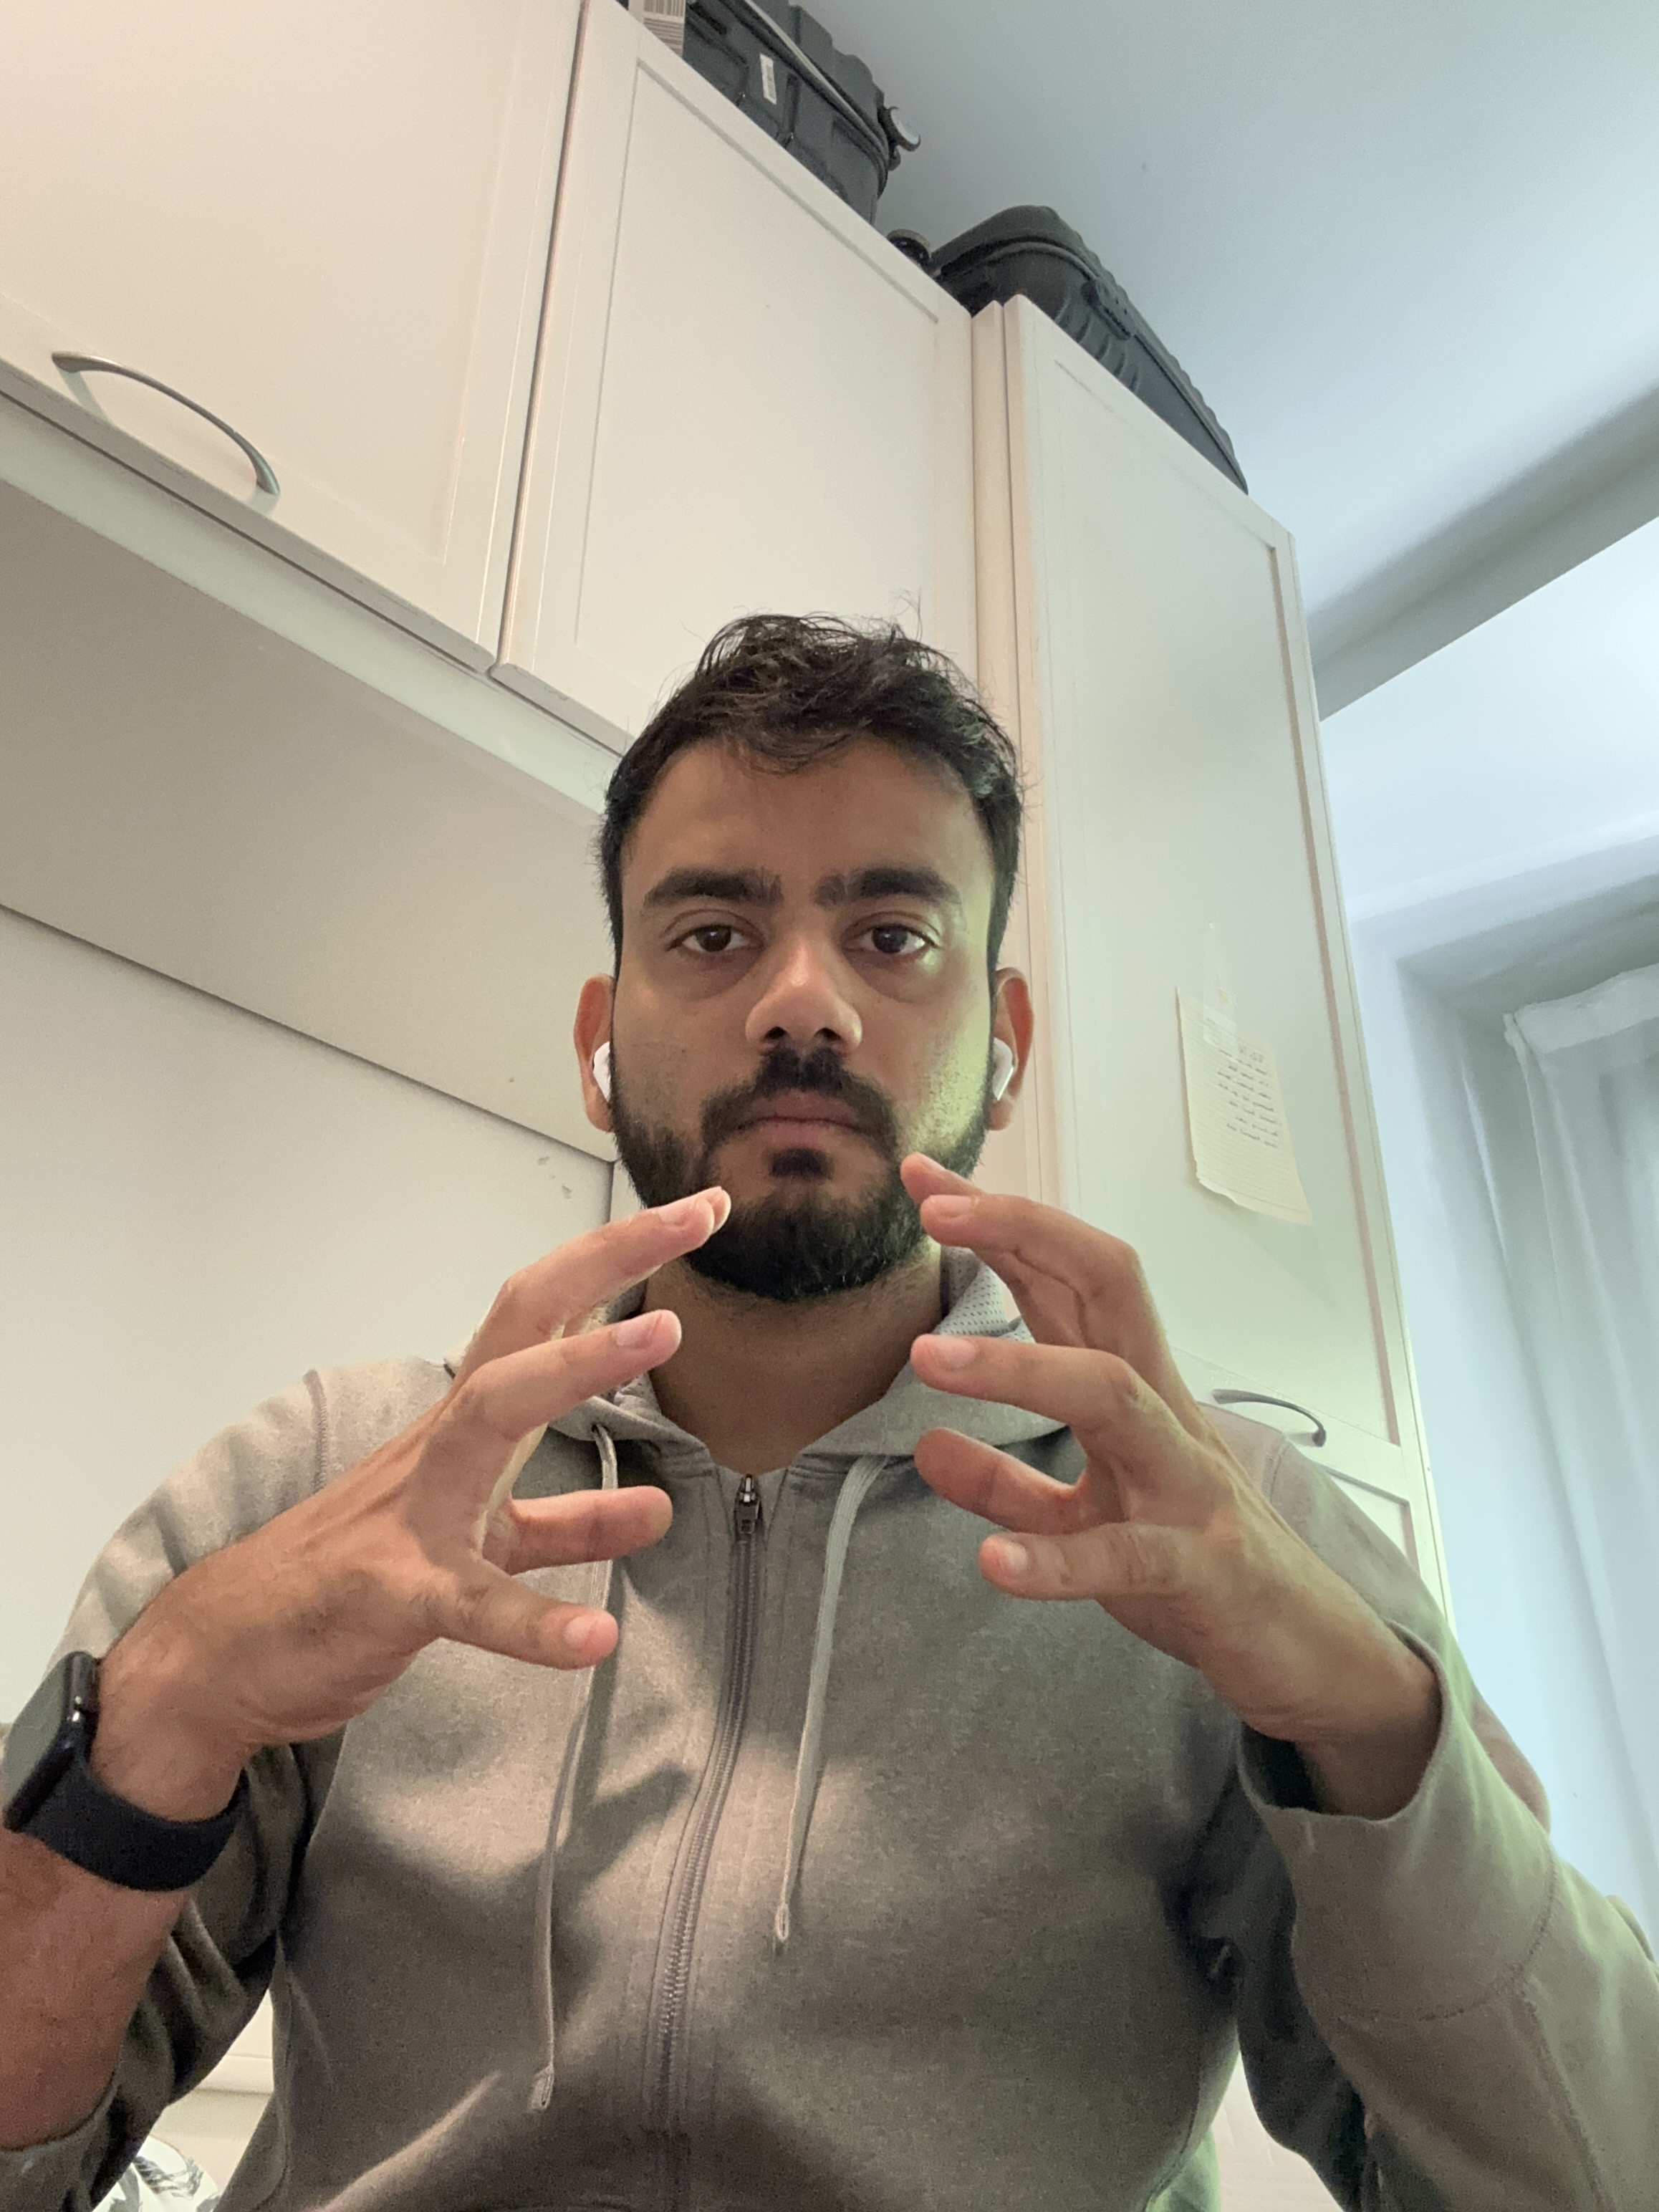explode: (7, 604, 1649, 2203), (580, 606, 1035, 1312), (598, 1031, 1007, 1305)
